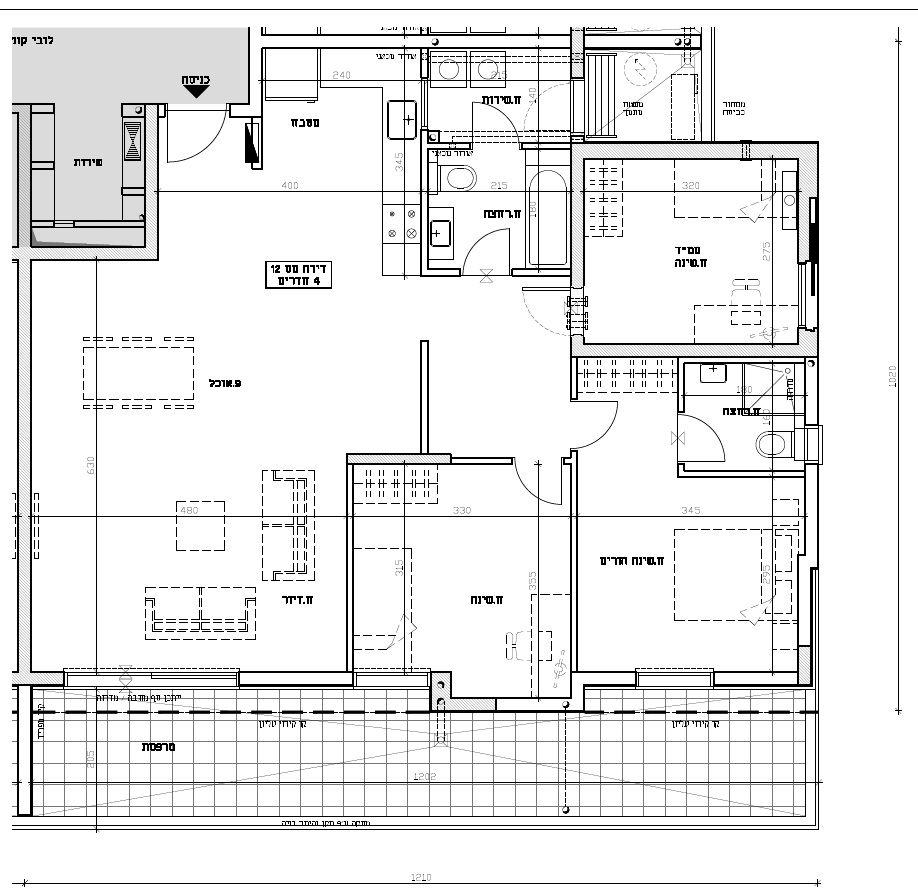door: (162, 122, 232, 174), (510, 467, 568, 511), (581, 398, 627, 452), (460, 225, 515, 268), (685, 411, 726, 467), (464, 94, 520, 129)
wall: (16, 90, 30, 504), (574, 344, 818, 355), (574, 144, 742, 157), (15, 247, 151, 260), (146, 107, 156, 259), (572, 147, 583, 282), (348, 455, 449, 463)
window: (418, 76, 430, 129), (797, 260, 806, 329)
